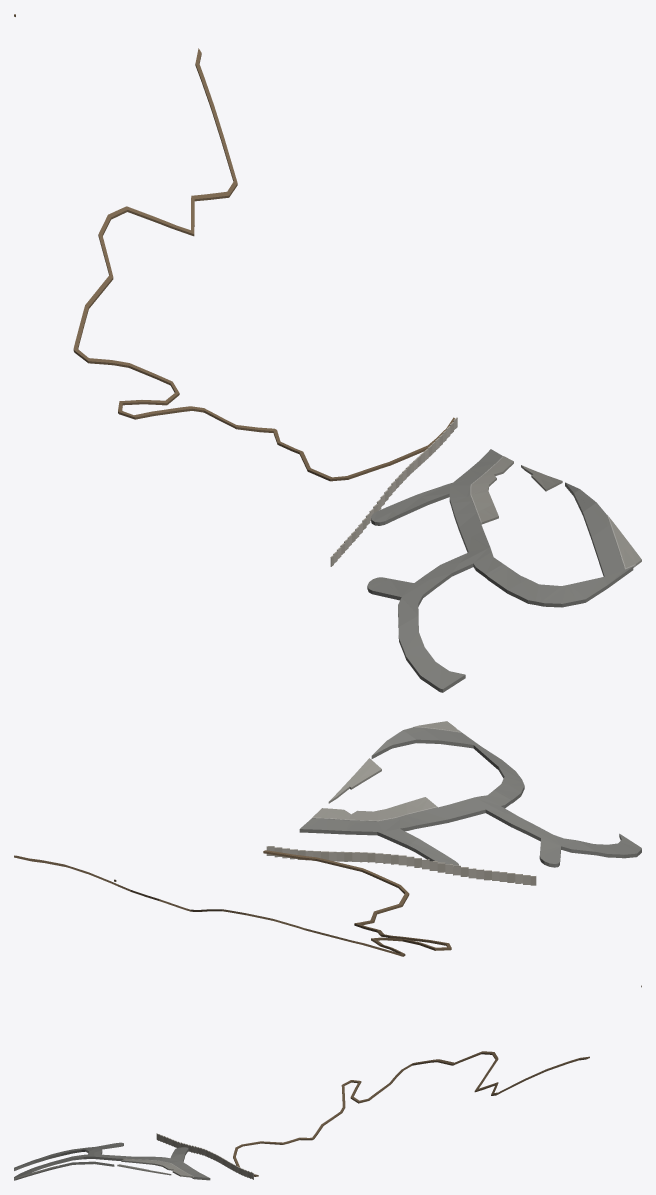
3 views of the same model, one above another, from view 1: azimuth 30°, elevation 25°; view 2: azimuth 150°, elevation 25°; view 3: azimuth 270°, elevation 25° (orthographic). The views are drawn at different scales.
Size of the model in its own units: 91.99 by 104 by 292.
